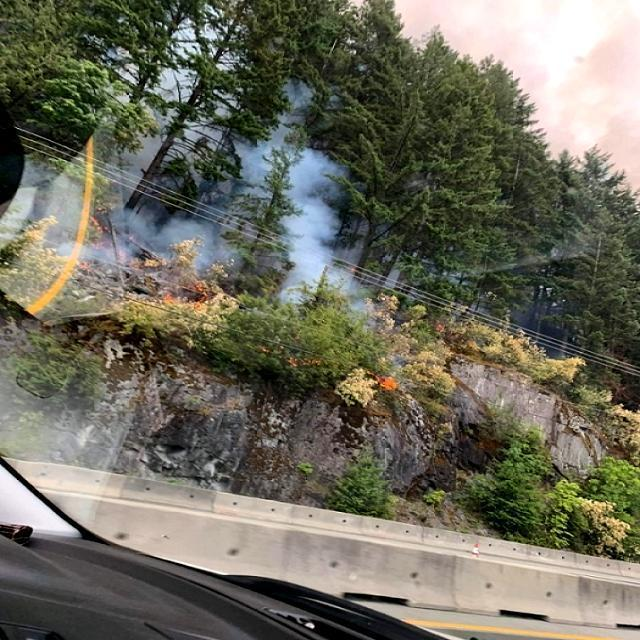Smoke: (0, 110, 363, 300)
